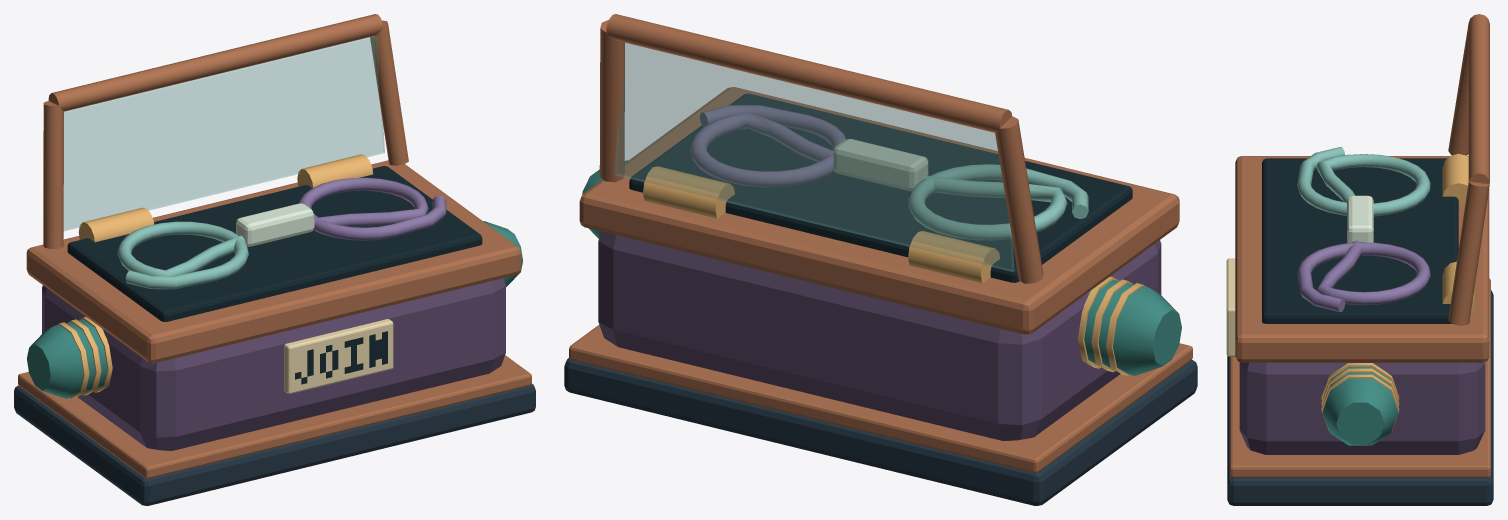
3 views of the same model, side by side, from view 1: azimuth 30°, elevation 25°; view 2: azimuth 150°, elevation 25°; view 3: azimuth 270°, elevation 25° (orthographic). The views are drawn at different scales.
Parts seen in each view (by area): view 1: PR055 enamel and hardware; view 2: PR055 enamel and hardware; view 3: PR055 enamel and hardware.
Part boxes in pixels (left/top/right/bottom): PR055 enamel and hardware: left=14, top=14, right=535, bottom=505; PR055 enamel and hardware: left=564, top=14, right=1197, bottom=505; PR055 enamel and hardware: left=1226, top=14, right=1493, bottom=505.
Size of the model in its own units: 1.2 by 0.7666 by 0.5839.
